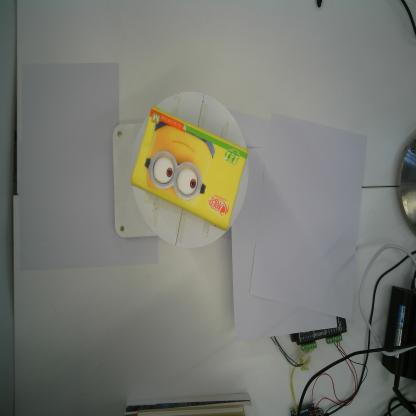Tissue: (130, 105, 250, 233)
